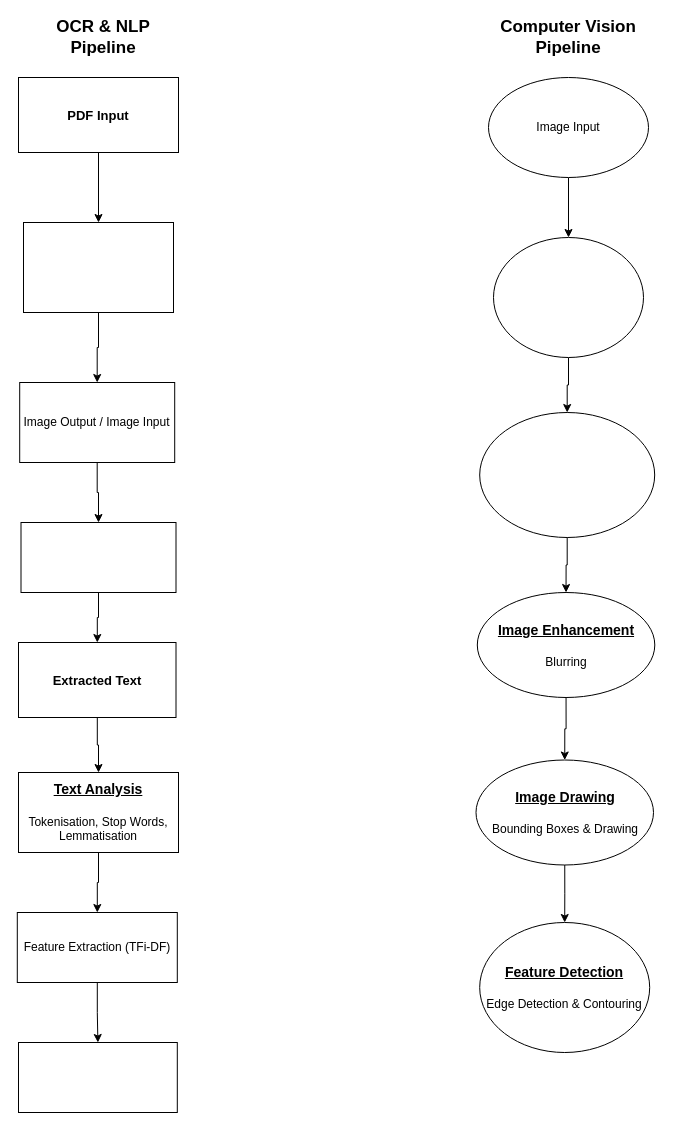
Some shapes in this 673 by 1130 pixel diagram are drawn without their labels. The centre of each missing label's shape, as x and y in pixels:
"Image Processing Grayscale, Thresholding, RGB Channels" belongs at (x=568, y=297).
"Image Transformations Resizing & Flipping" belongs at (x=567, y=475).
"OCR Text Extraction (Tesseract)" belongs at (x=98, y=557).
"Output" belongs at (x=97, y=1077).
"PDF Processing Converting PDFs to images with pymupdf" belongs at (x=98, y=267).
